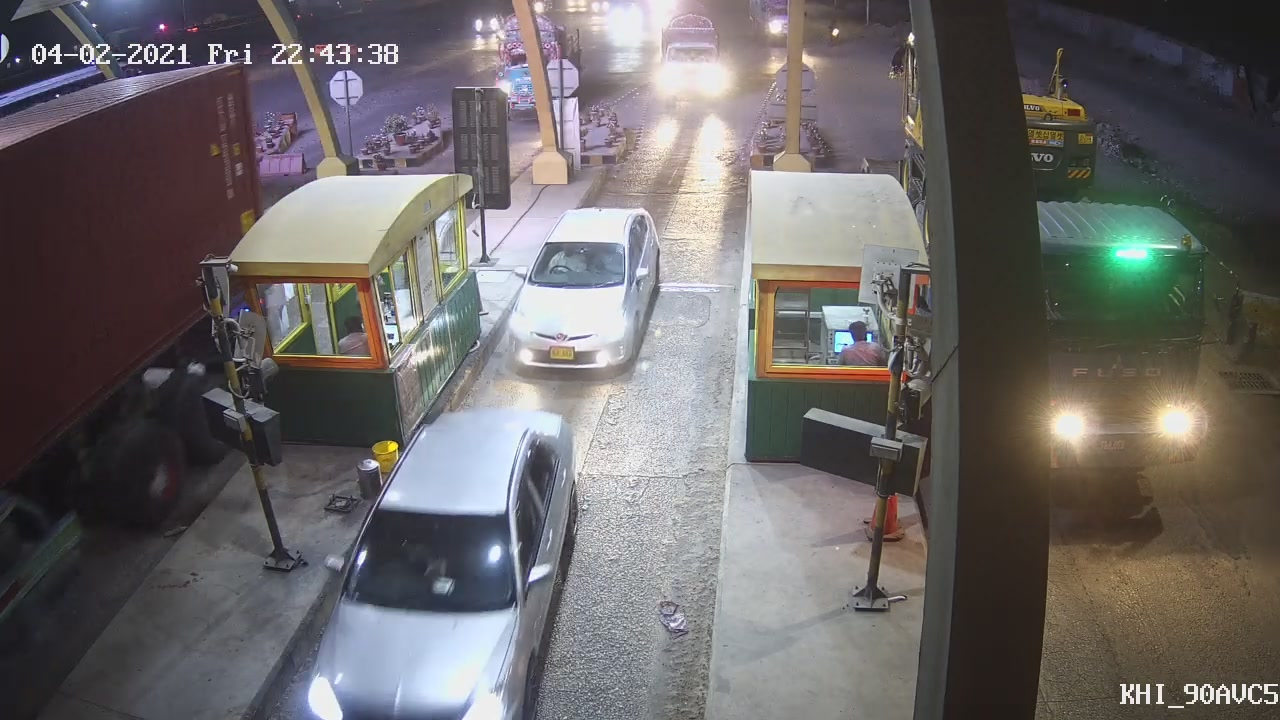F1: (507, 208, 671, 379)
